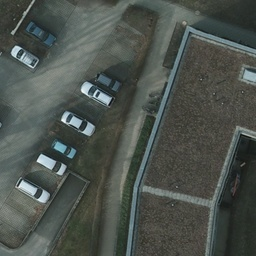car: (16, 178, 50, 206), (81, 79, 112, 106), (63, 110, 94, 137), (27, 20, 55, 47), (93, 72, 123, 94), (36, 154, 66, 176), (12, 46, 40, 68), (53, 138, 76, 159)
